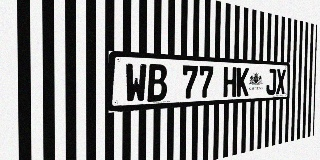7: (181, 65, 198, 100), (198, 66, 214, 99)
B: (147, 64, 167, 102)
H: (223, 67, 237, 97)
J: (266, 68, 276, 95)
K: (237, 67, 249, 97)
W: (125, 63, 147, 103)
X: (276, 69, 286, 94)
